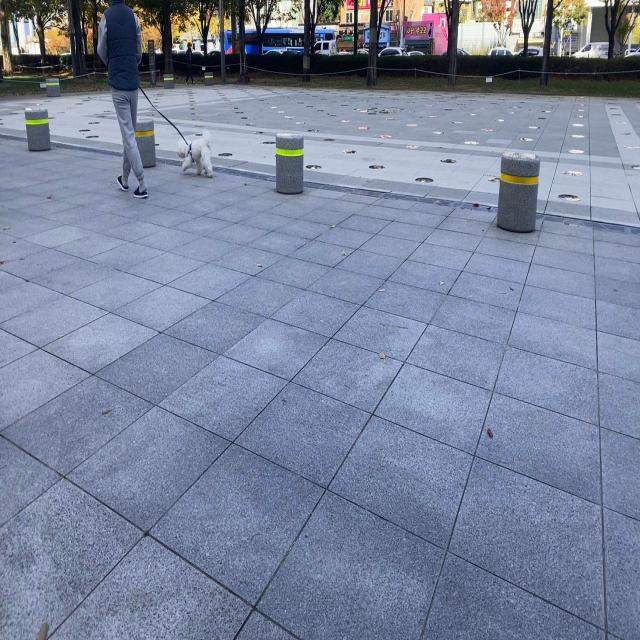Leashed_Dog: (125, 72, 214, 180)
